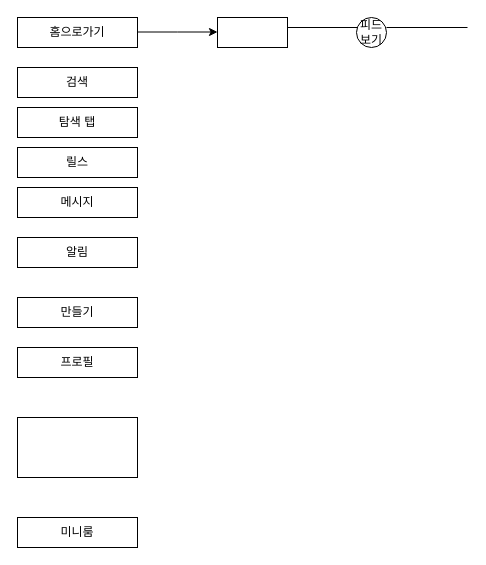
This 486x565 diagram has some shape labels left out. Each missing label, with the centre of its shape:
"더보기" goes at (x=77, y=447).
"피드목록" goes at (x=252, y=32).
